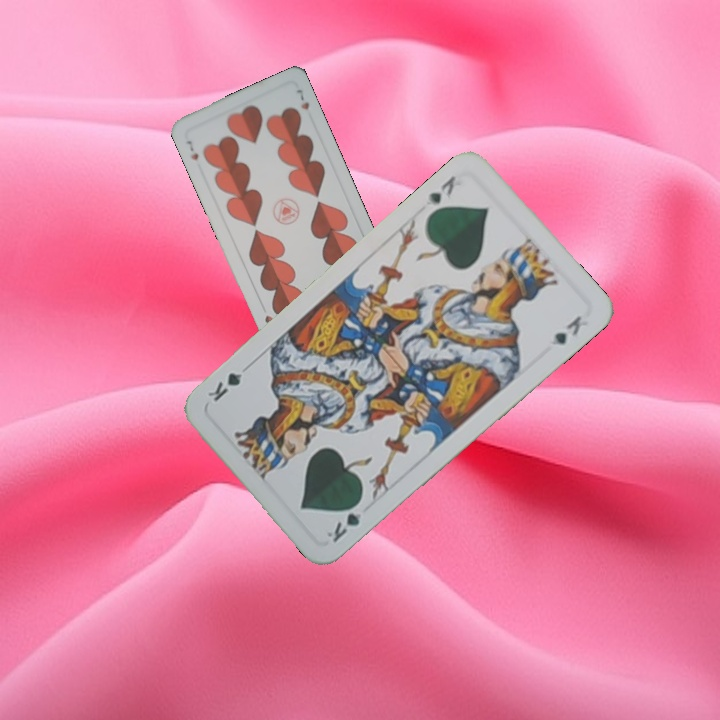GK: (322, 495, 367, 546), (421, 171, 458, 210)
H7: (183, 137, 201, 163)
